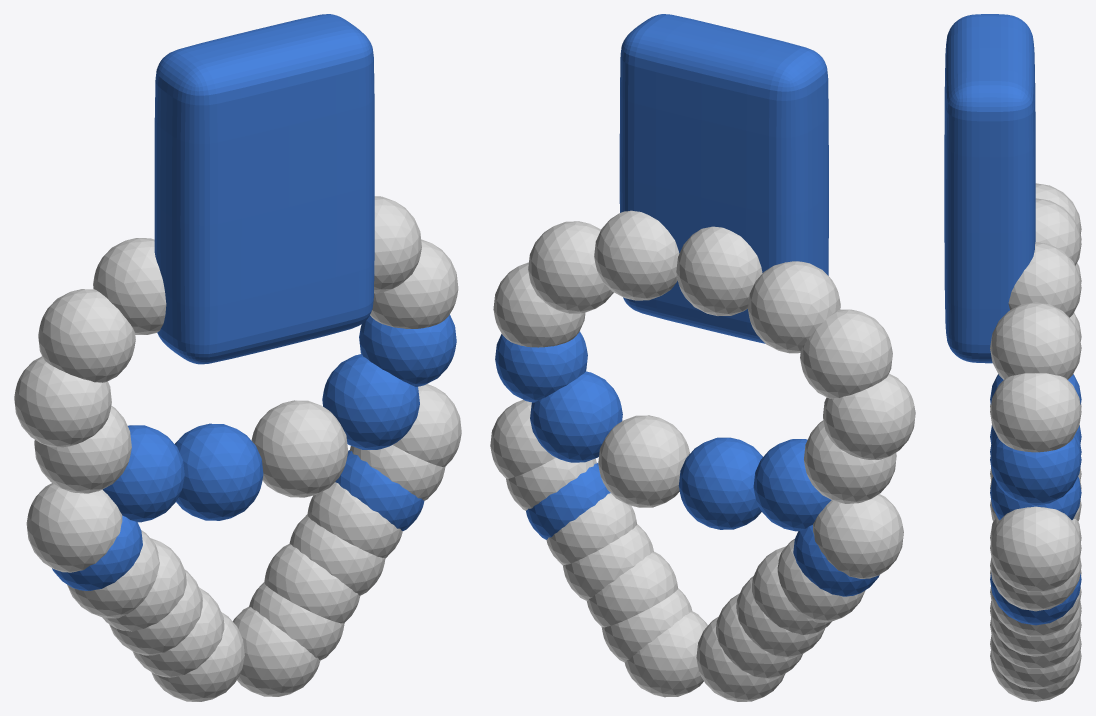
Rendered from earring_test.glb.
The picture shows the model from 3 angles, left to right: view 1: azimuth 30°, elevation 25°; view 2: azimuth 150°, elevation 25°; view 3: azimuth 270°, elevation 25°; orthographic projection. The views are drawn at different scales.
Parts seen in each view (by area): view 1: MainStone, ClusterStone_9, ClusterStone_1, ClusterStone_10, ClusterStone_8, ClusterStone_14, ClusterStone_0, ClusterStone_11, ClusterStone_2, ClusterStone_27, ClusterStone_7, ClusterStone_12 (+15 smaller); view 2: MainStone, ClusterStone_9, ClusterStone_1, ClusterStone_2, ClusterStone_10, ClusterStone_4, ClusterStone_8, ClusterStone_3, ClusterStone_14, ClusterStone_5, ClusterStone_0, ClusterStone_11 (+17 smaller); view 3: MainStone, ClusterStone_13, ClusterStone_6, ClusterStone_5, ClusterStone_7, ClusterStone_4, ClusterStone_3, ClusterStone_25, ClusterStone_21, ClusterStone_15, ClusterStone_8, ClusterStone_17 (+5 smaller).
Part boxes in pixels (box(x1,y1,x2,y2)): MainStone: box(154, 14, 374, 364); ClusterStone_9: box(251, 400, 348, 497); ClusterStone_1: box(38, 289, 135, 382); ClusterStone_10: box(175, 423, 263, 520); ClusterStone_8: box(322, 354, 419, 449); ClusterStone_14: box(26, 483, 122, 572); ClusterStone_0: box(14, 356, 111, 447); ClusterStone_11: box(102, 425, 184, 522); ClusterStone_2: box(93, 238, 166, 334); ClusterStone_27: box(233, 606, 320, 696); ClusterStone_7: box(359, 314, 456, 386); ClusterStone_12: box(34, 405, 131, 493); MainStone: box(619, 14, 828, 343); ClusterStone_9: box(598, 415, 689, 507); ClusterStone_1: box(800, 309, 892, 398); ClusterStone_2: box(748, 261, 840, 353); ClusterStone_10: box(678, 437, 762, 529); ClusterStone_4: box(594, 210, 679, 300); ClusterStone_8: box(530, 371, 622, 462); ClusterStone_3: box(676, 226, 762, 315); ClusterStone_14: box(813, 494, 903, 578); ClusterStone_5: box(528, 221, 613, 313); ClusterStone_0: box(823, 373, 915, 459); ClusterStone_11: box(753, 439, 831, 531); MainStone: box(944, 14, 1035, 363); ClusterStone_13: box(990, 506, 1081, 591); ClusterStone_6: box(990, 373, 1081, 452); ClusterStone_5: box(990, 302, 1081, 379); ClusterStone_7: box(990, 436, 1081, 505); ClusterStone_4: box(1008, 242, 1081, 317); ClusterStone_3: box(1035, 198, 1081, 265); ClusterStone_25: box(990, 635, 1081, 689); ClusterStone_21: box(990, 602, 1081, 656); ClusterStone_15: box(990, 557, 1081, 611); ClusterStone_8: box(990, 476, 1081, 520); ClusterStone_17: box(990, 573, 1081, 625).
Bounding box in the file's own units: 0.0143 × 0.0214 × 0.0042.
